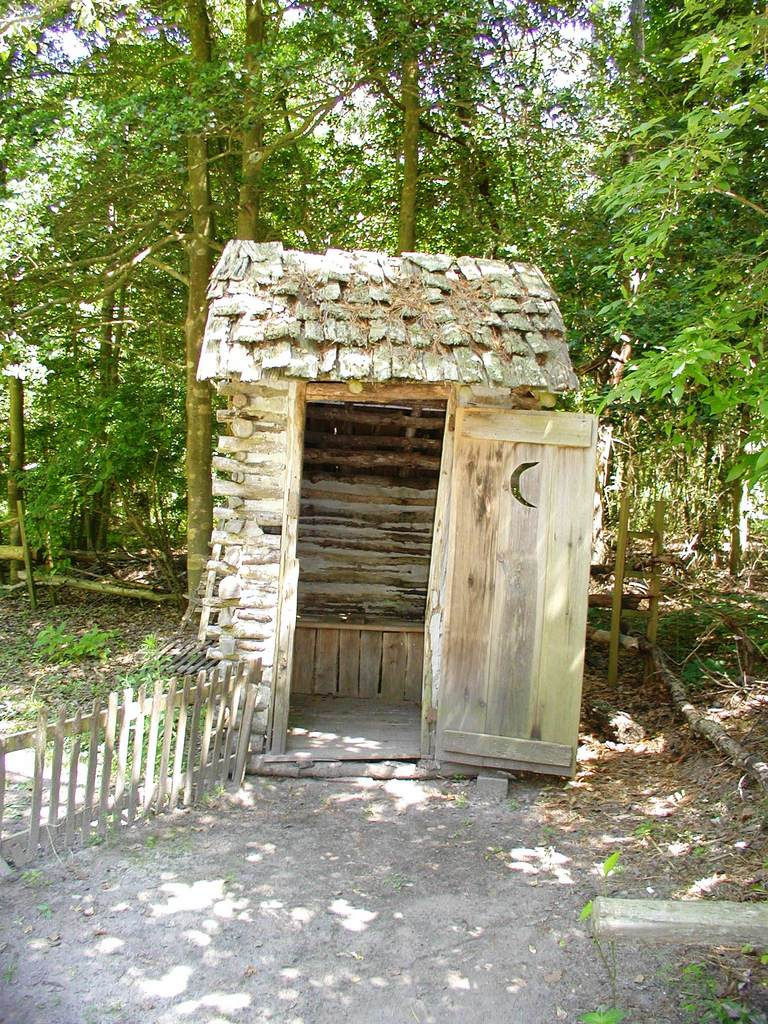Tree: (0, 0, 768, 629)
